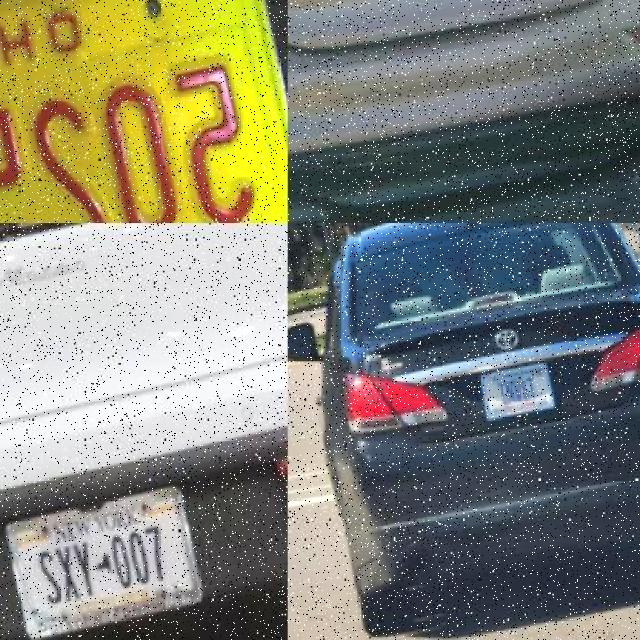licenseplate: (0, 42, 288, 223), (0, 491, 197, 640), (362, 0, 486, 57), (474, 367, 550, 424)
